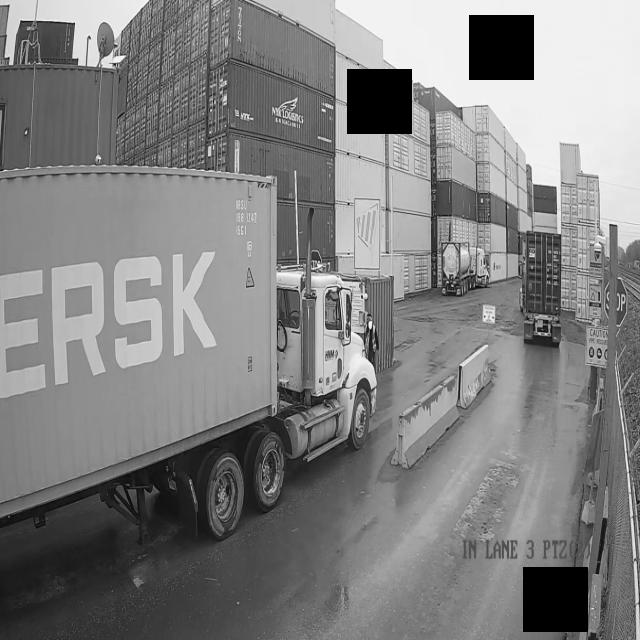container_side_no: (231, 199, 263, 241)
truck_company: (325, 349, 337, 360)
truck_with_container: (0, 165, 379, 541), (521, 232, 561, 346)
